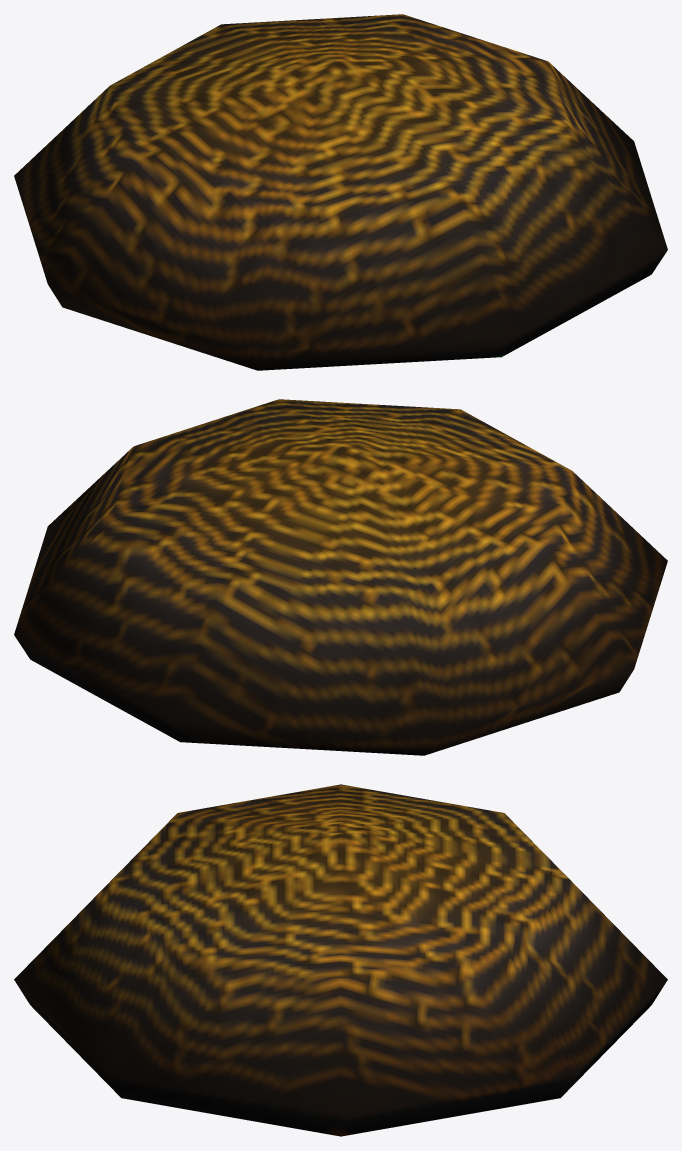
Rendered from Coral_25.FBX.
3 renders of one model, top to bottom at view 1: azimuth 30°, elevation 25°; view 2: azimuth 150°, elevation 25°; view 3: azimuth 270°, elevation 25°, orthographic. The views are drawn at different scales.
Parts seen in each view (by area): view 1: Coral_25; view 2: Coral_25; view 3: Coral_25.
Part boxes in pixels (left/top/right/bottom): Coral_25: left=14, top=14, right=667, bottom=370; Coral_25: left=14, top=399, right=667, bottom=755; Coral_25: left=14, top=784, right=667, bottom=1136.
Size of the model in its own units: 21.25 by 6.08 by 21.25.
